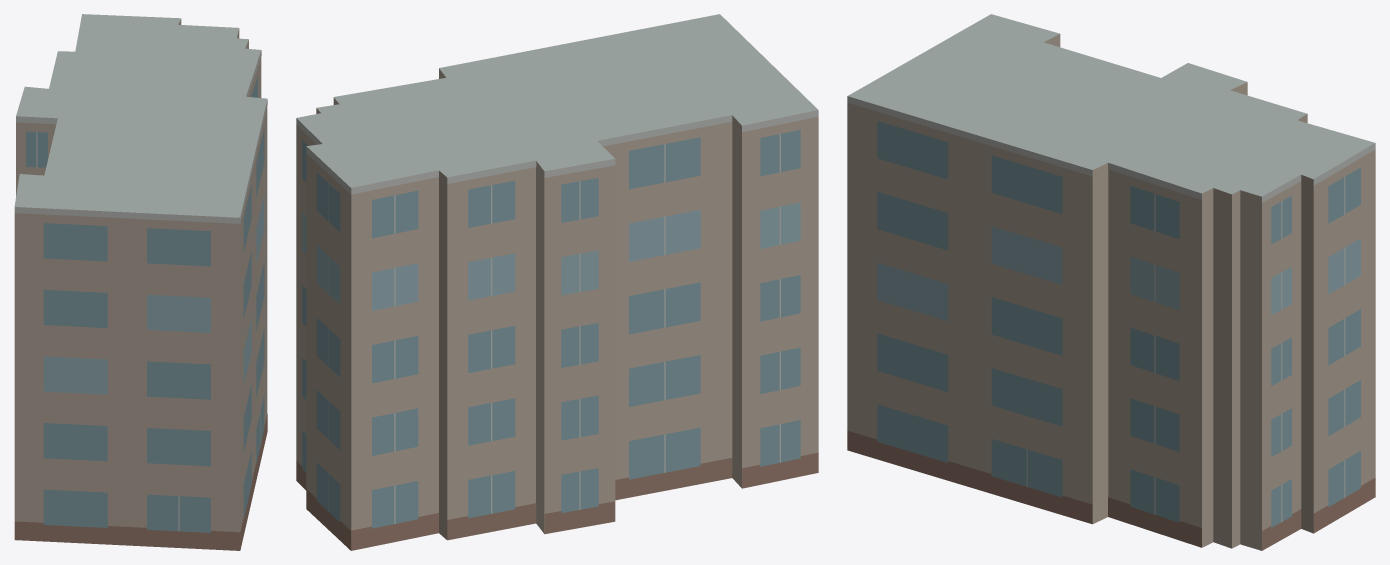
File: survey-upis-32868797.glb
3 views of the same model, side by side, from view 1: azimuth 30°, elevation 25°; view 2: azimuth 150°, elevation 25°; view 3: azimuth 270°, elevation 25° (orthographic). The views are drawn at different scales.
Visible parts, largest first — view 1: survey-upis-32868797.tmp; view 2: survey-upis-32868797.tmp; view 3: survey-upis-32868797.tmp.
Part boxes in pixels (x1,y1,x2,y2): survey-upis-32868797.tmp: (14, 14, 267, 550); survey-upis-32868797.tmp: (296, 14, 818, 550); survey-upis-32868797.tmp: (847, 14, 1375, 550).
Bounding box in the file's own units: 14.83 × 13.4 × 18.12.
